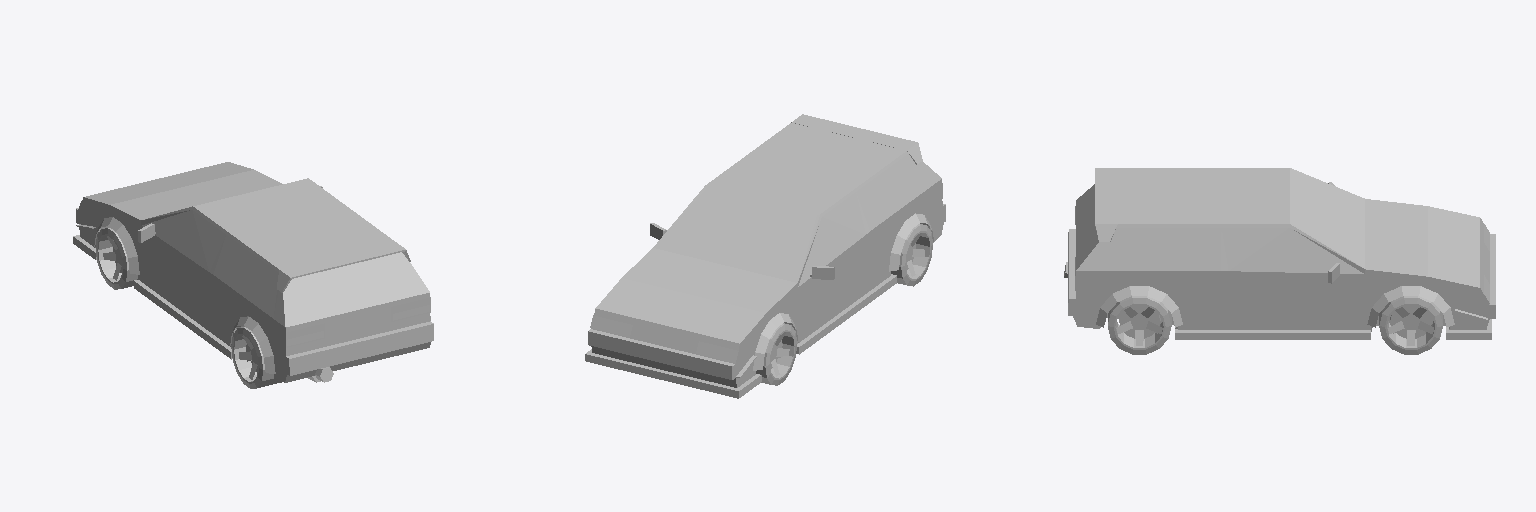
3 renders of one model, left to right at view 1: azimuth 30°, elevation 25°; view 2: azimuth 150°, elevation 25°; view 3: azimuth 270°, elevation 25°, orthographic.
Parts seen in each view (by area): view 1: Body.002_Cube.003, Cylinder.009_Cylinder.001, Cylinder.011_Cylinder.001; view 2: Body.002_Cube.003, Cylinder.009_Cylinder.001, Cylinder.011_Cylinder.001; view 3: Body.002_Cube.003, Cylinder.008_Cylinder.001, Cylinder.010_Cylinder.001.
Boxes of the visible parts, box(x1,y1,x2,y2) form: Body.002_Cube.003: box(73, 162, 433, 382); Cylinder.009_Cylinder.001: box(231, 327, 281, 388); Cylinder.011_Cylinder.001: box(95, 227, 137, 289); Body.002_Cube.003: box(585, 114, 945, 398); Cylinder.009_Cylinder.001: box(891, 224, 932, 286); Cylinder.011_Cylinder.001: box(756, 323, 796, 385); Body.002_Cube.003: box(1068, 168, 1495, 339); Cylinder.008_Cylinder.001: box(1379, 296, 1442, 354); Cylinder.010_Cylinder.001: box(1108, 296, 1171, 354).
Size of the model in its own units: 2 by 1.24 by 4.05.